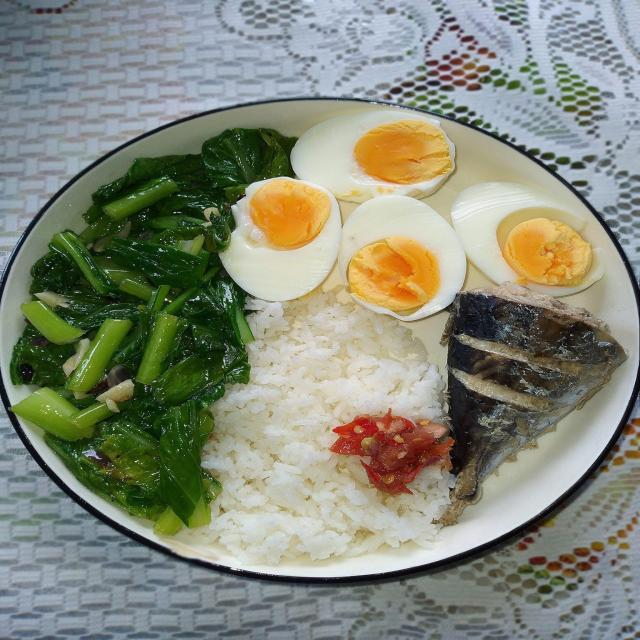Egg: (218, 110, 614, 321)
Fish: (434, 283, 628, 522)
Plate: (13, 110, 639, 580)
Rice: (161, 284, 453, 571)
Vegetables: (11, 128, 310, 542)
